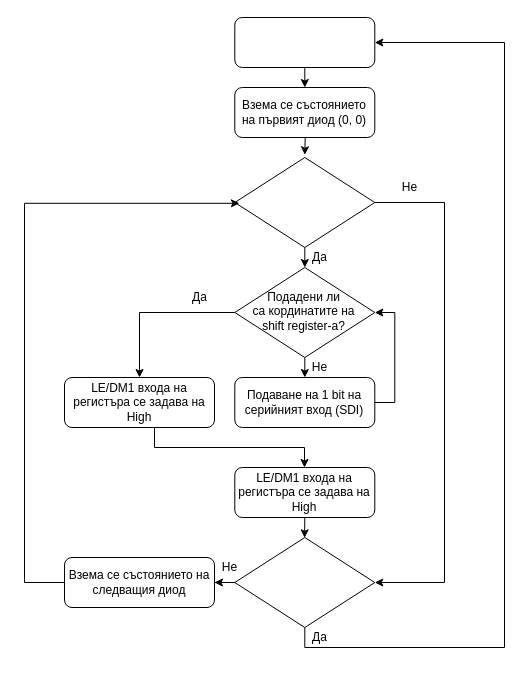
This 530x673 diagram has some shape labels left out. Here are the shapes that lost their labels. From the top down, the centre of each, then its label:
At point (304, 42): "Взема се новото състояние на LED матрицата".
At point (304, 202): "Състоянието на диода е High?".
At point (304, 582): "Последен диод ли е?".
